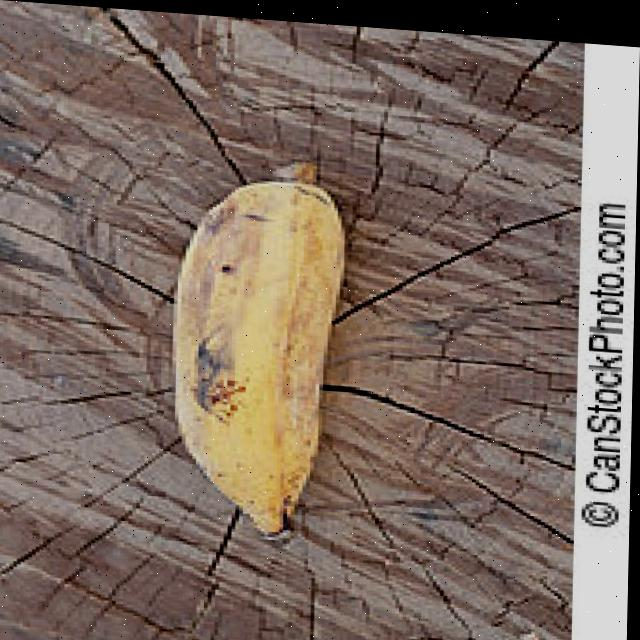banana: (161, 145, 360, 554)
